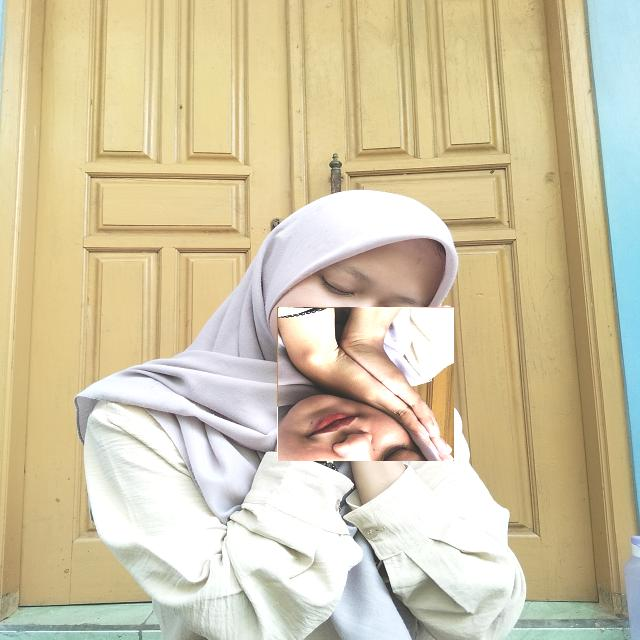tidur: (277, 307, 454, 461)
